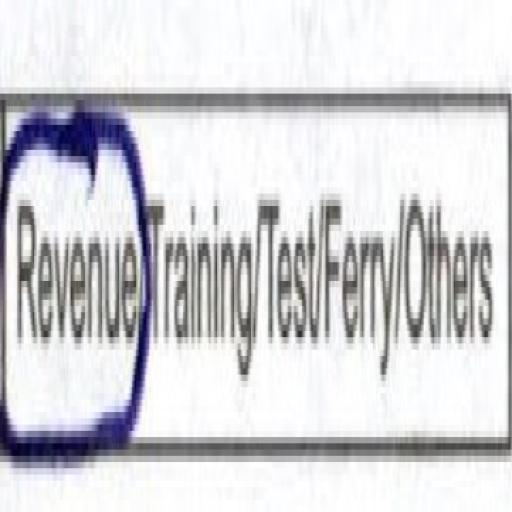check: (0, 17, 142, 512)
